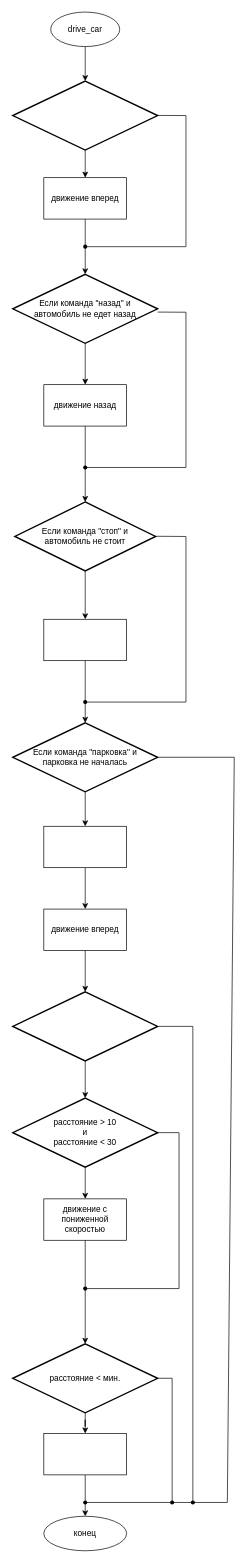
The diagram is 247 pixels wide and 1563 high, and some of its shapes have lost their labels. The shapes that lost their labels are listed below. From the top down, each one's centre as x and y in pixels, then its label:
[85,115]: Если команда "вперед" и автомобиль не едет вперед
[85,640]: автомобиль останавливается
[85,847]: флаг парковки park on
[85,1026]: park on
[85,1454]: стоп
